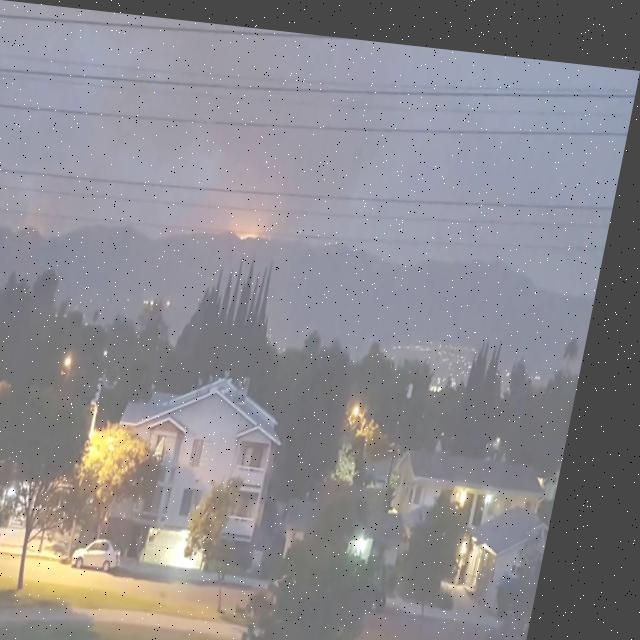Fire: (242, 220, 272, 234)
